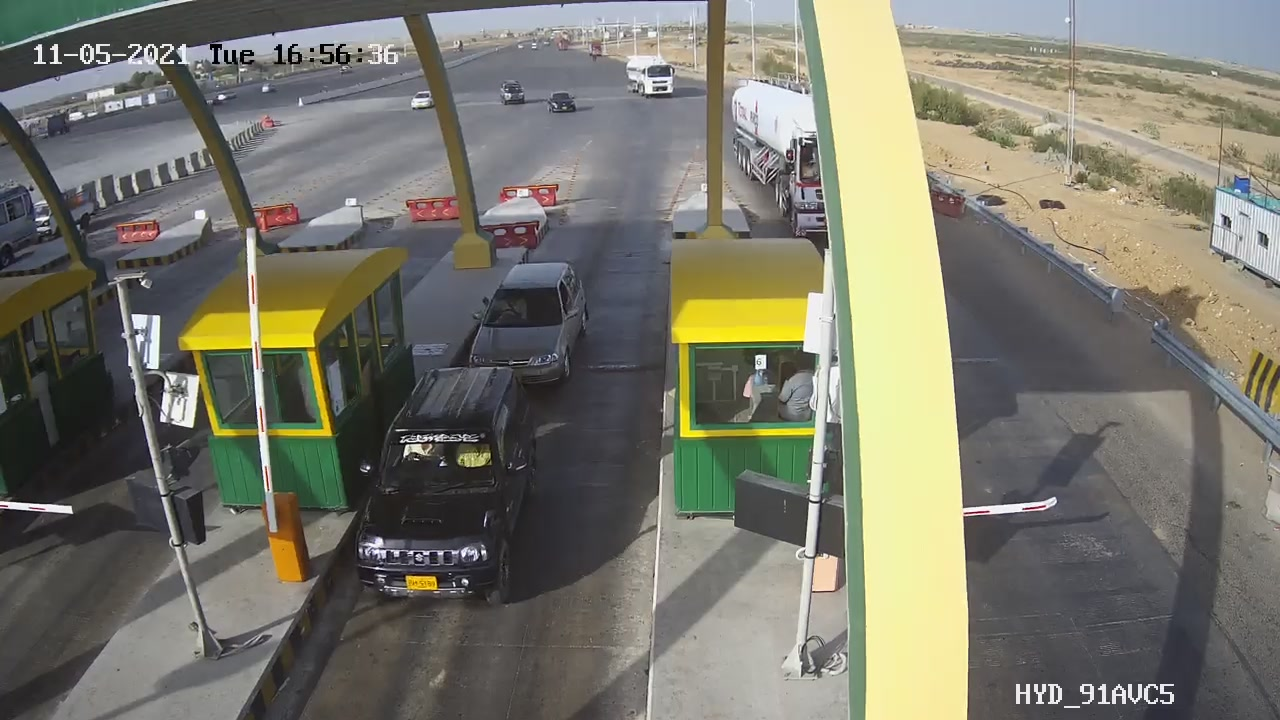F1: (336, 353, 561, 621), (453, 247, 605, 405)
